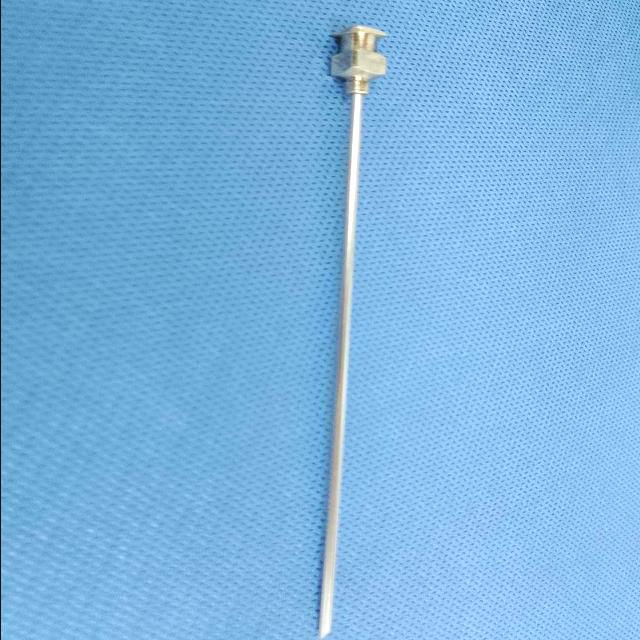General: (4, 3, 637, 638)
Sharps: (314, 24, 390, 638)
